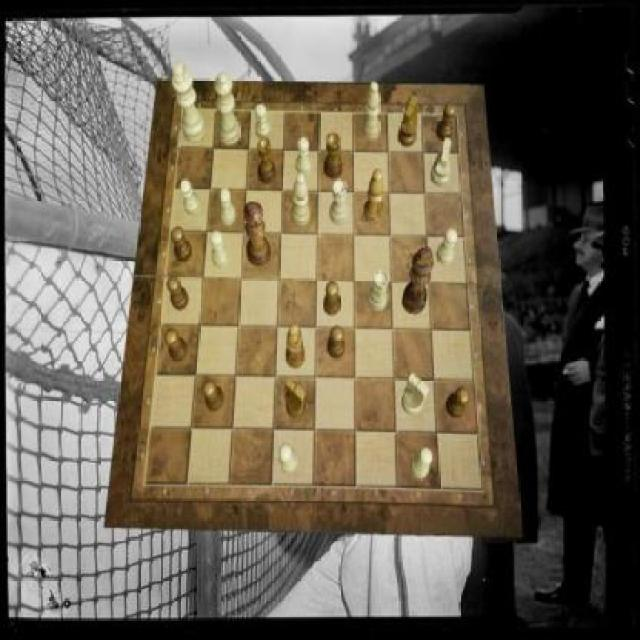bishop: (364, 169, 384, 223), (286, 323, 306, 369)
black-bishop: (401, 248, 434, 315)
black-king: (398, 97, 418, 149), (284, 377, 306, 418)
black-knight: (164, 329, 188, 363), (166, 275, 189, 310), (446, 388, 470, 420), (437, 103, 457, 141), (170, 228, 192, 262), (201, 380, 224, 412), (323, 282, 341, 316), (328, 326, 345, 359)
black-pawn: (243, 202, 271, 268)
black-queen: (257, 137, 276, 185), (325, 134, 342, 180)
black-rook: (292, 172, 312, 227), (362, 82, 379, 140)
white-bishop: (172, 60, 206, 142)
white-king: (403, 374, 431, 416), (431, 137, 452, 186)
white-knight: (178, 180, 201, 216), (437, 229, 458, 267), (411, 448, 434, 480), (210, 231, 228, 268), (255, 103, 272, 141), (296, 137, 312, 177), (220, 188, 237, 225), (280, 443, 300, 474)
white-pawn: (216, 71, 242, 145)
white-queen: (366, 269, 389, 312), (329, 178, 348, 224)
